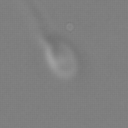normal: (20, 1, 58, 43)
